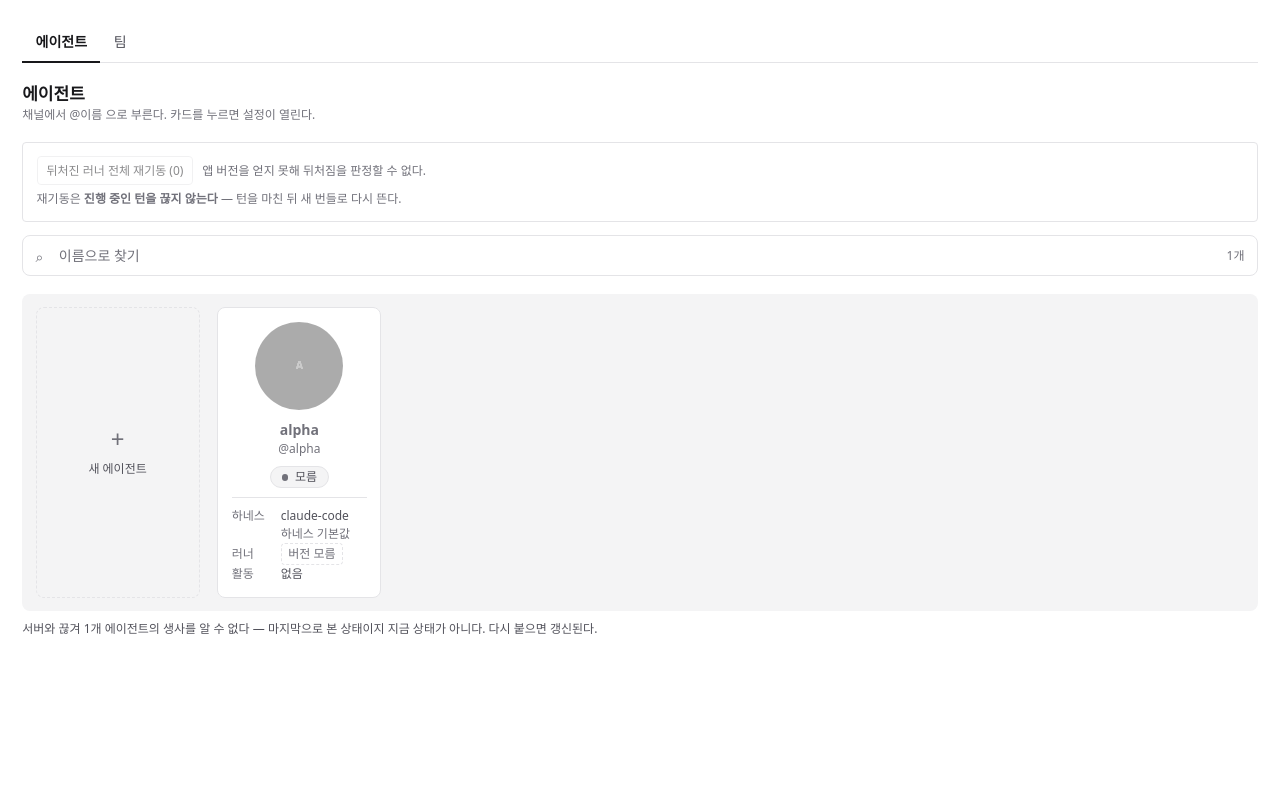
it: AgentsSettings — 러너 실행·중지 토글(#427, #493) › 되돌리지 못하면 사유를 말한다 — 실패를 삼키고 켜진 척하지 않는다
The width and height of the screenshot is (1280, 800).
Click the button "A alpha @alpha": (299, 390) [232,322,367,458]
(page scrolled)
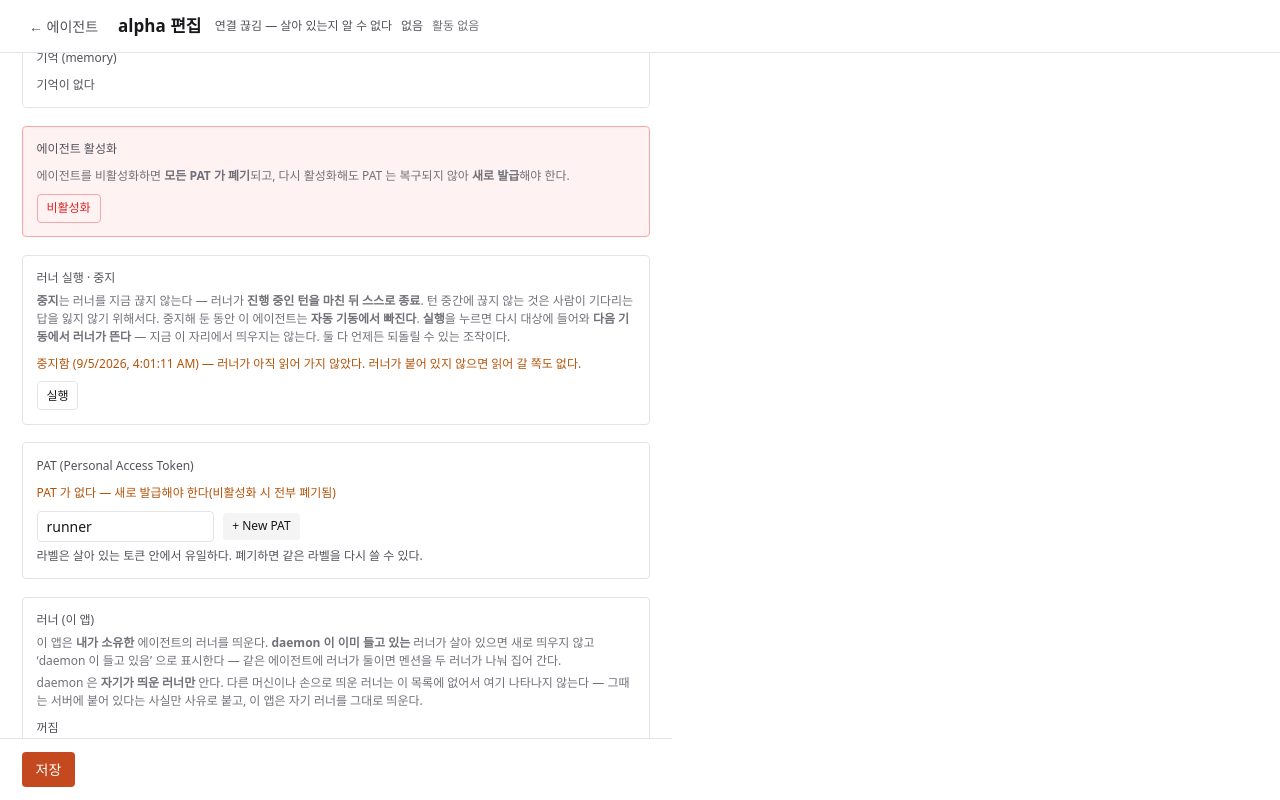
Expected: the button with aria-label "러너 실행" is shown
Click the button with aria-label "러너 실행": (58, 396) [37,381,78,410]
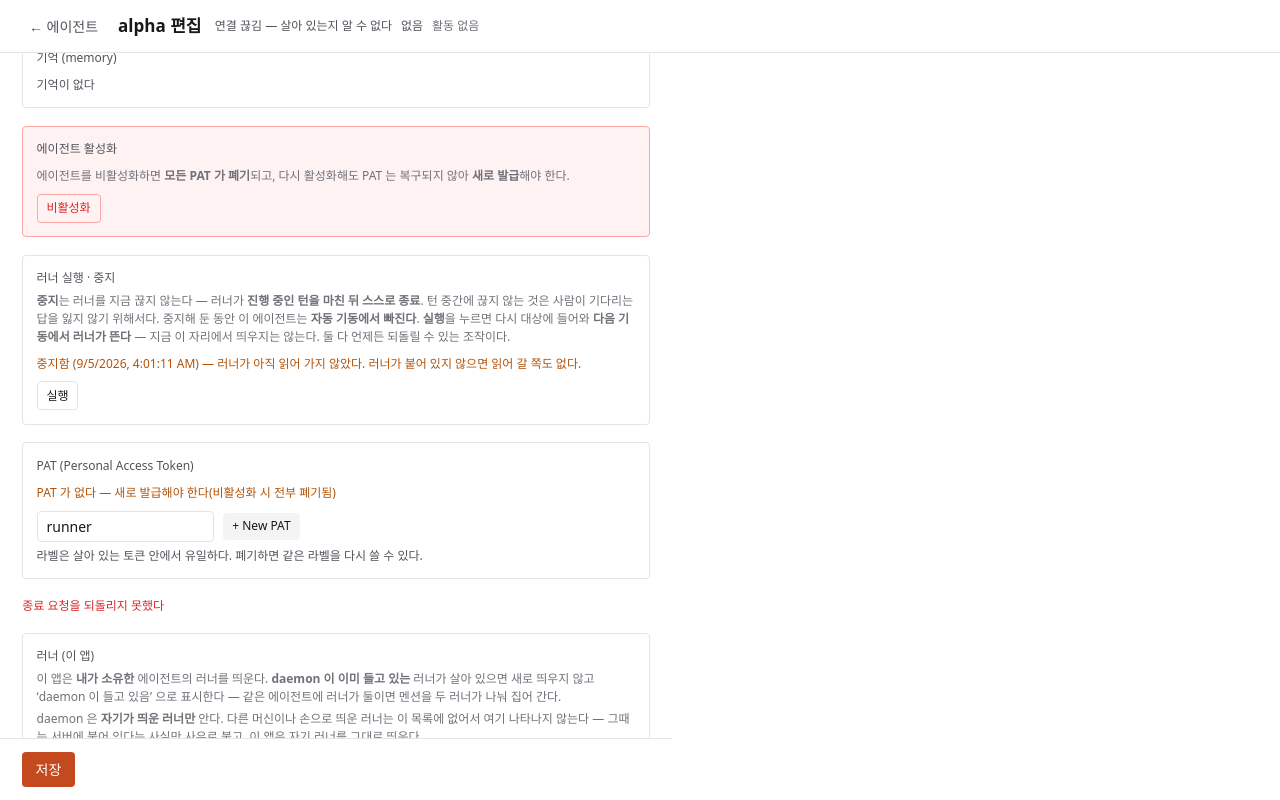
Expected: the button with aria-label "러너 실행" is shown, [37,381,78,410]
Expected: the text "종료 요청을 되돌리지 못했다" is shown, [22,597,164,614]
